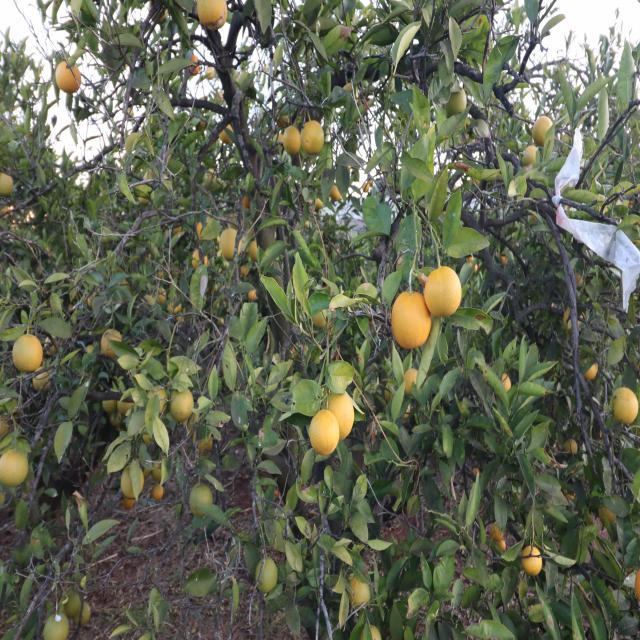Jeruk Belum Matang: (255, 558, 280, 596), (120, 466, 144, 500), (190, 482, 213, 514), (446, 86, 469, 118), (62, 590, 83, 624), (42, 618, 70, 640), (148, 386, 168, 416), (72, 600, 93, 628), (350, 574, 370, 603), (34, 368, 52, 391), (139, 426, 153, 448), (100, 398, 118, 414), (312, 308, 326, 328), (117, 400, 134, 416), (368, 624, 383, 640), (152, 461, 163, 478)
Jeruk Sudah Matang: (390, 289, 430, 352), (426, 266, 462, 318), (311, 408, 345, 457), (10, 333, 44, 372), (328, 393, 356, 432), (0, 448, 30, 484), (613, 386, 639, 424), (301, 120, 325, 156), (196, 0, 226, 27), (170, 390, 195, 422), (56, 64, 82, 94), (218, 226, 240, 260), (534, 115, 556, 146), (280, 128, 304, 154), (100, 332, 124, 358), (518, 142, 540, 168), (598, 502, 620, 528), (520, 554, 543, 578), (196, 216, 217, 242), (188, 247, 205, 274), (246, 237, 263, 263), (0, 174, 15, 198), (166, 298, 186, 316), (584, 363, 602, 381), (198, 434, 214, 454), (488, 524, 504, 542), (152, 484, 167, 501), (0, 416, 11, 438), (329, 185, 342, 202), (189, 53, 199, 75), (156, 288, 167, 304)
